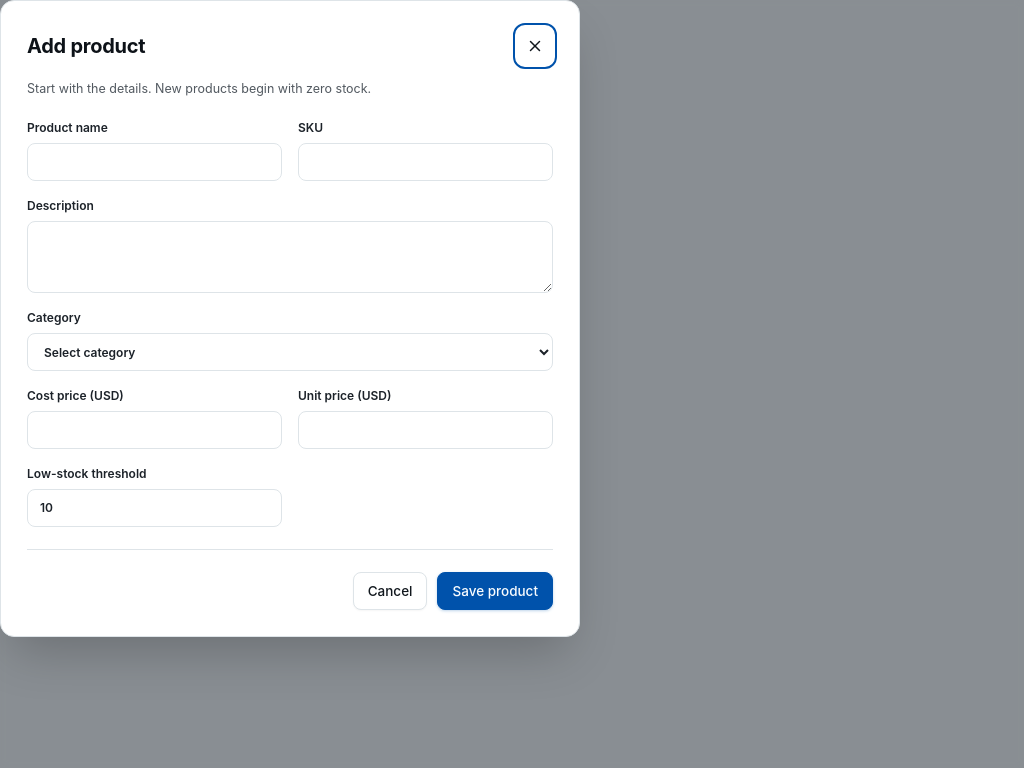
it: product form validates required fields before making a mutation
Click the button "Save product".
click(495, 591)  # box [438,572,553,610]
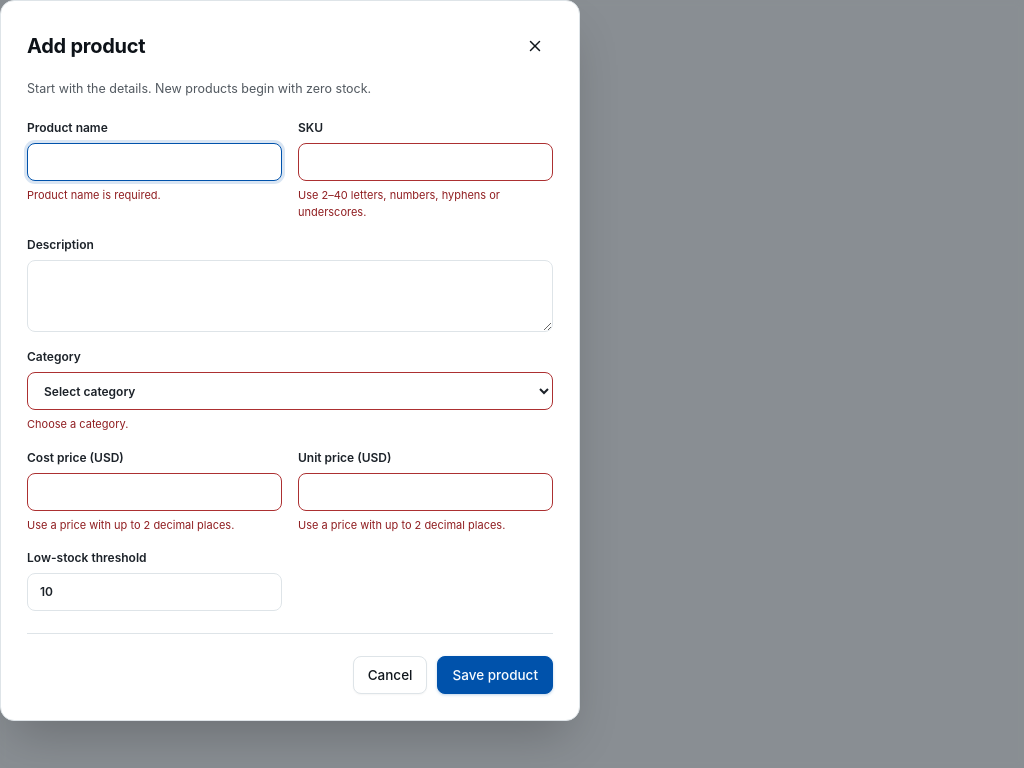
expect the text "Product name is required." is shown: met, box [27,188,161,202]
